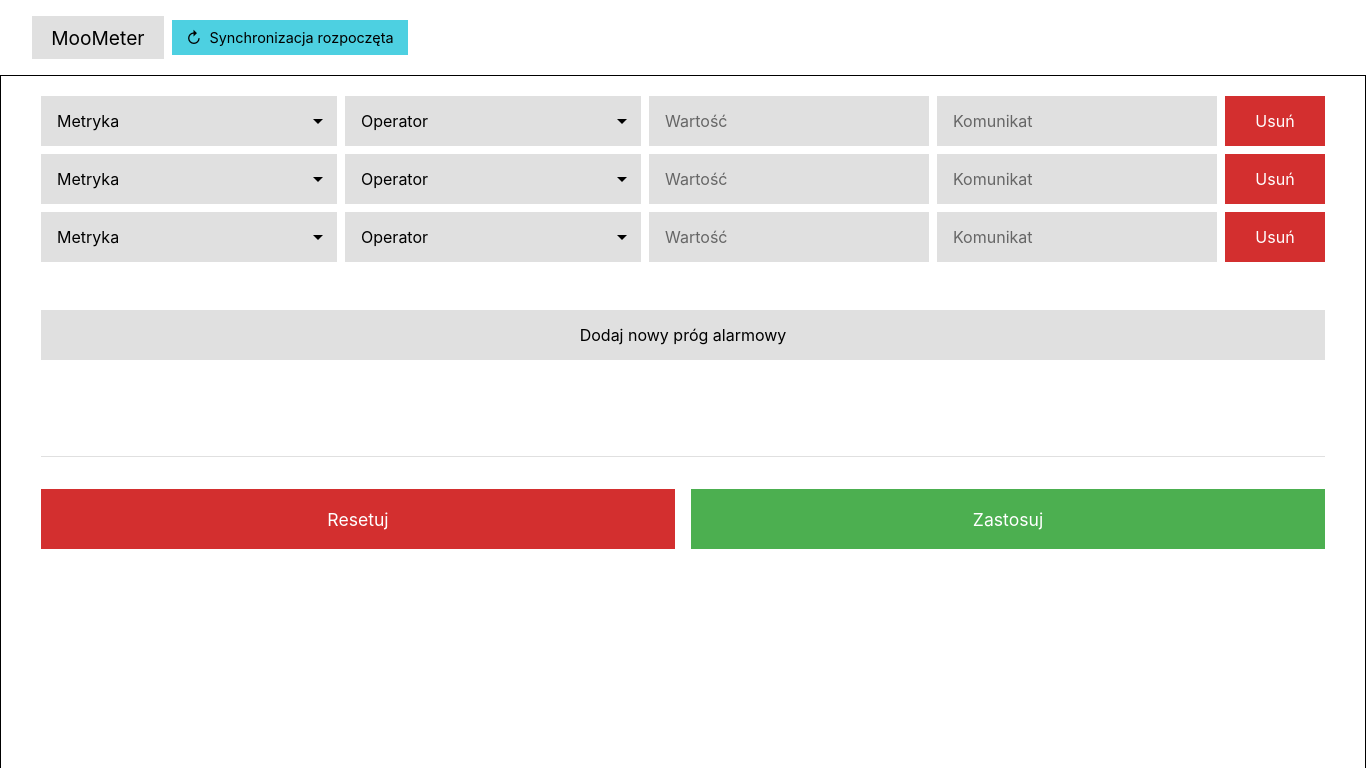
Scenario: ThresholdForm - Formularz progów alarmowych › powinien dodać nowy wiersz progu po kliknięciu "Dodaj nowy próg alarmowy"
Click the button "Dodaj nowy próg alarmowy" at (683, 335), box [41,310,1325,360]
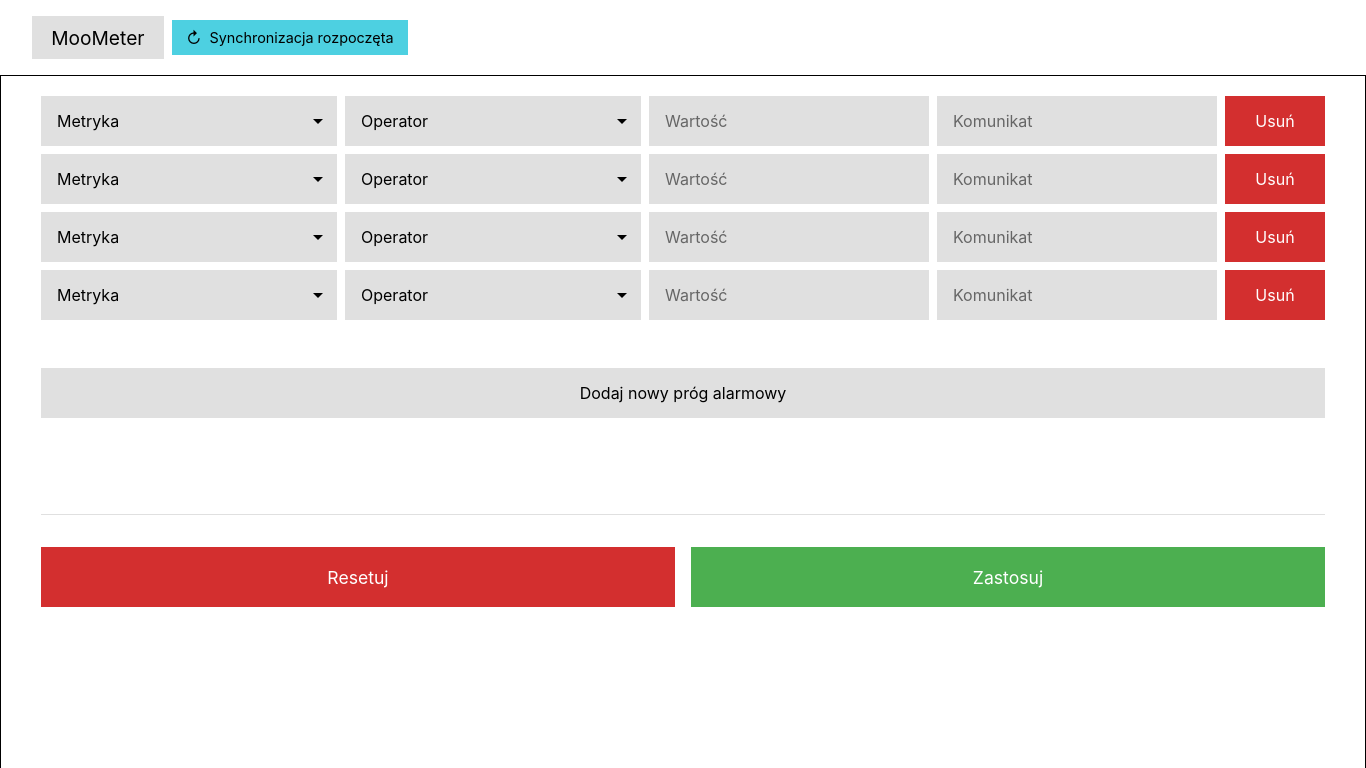
Expected: the number of buttons "Usuń" is 4, [1225,96,1325,146]; [1225,154,1325,204]; [1225,212,1325,262]; [1225,270,1325,320]
